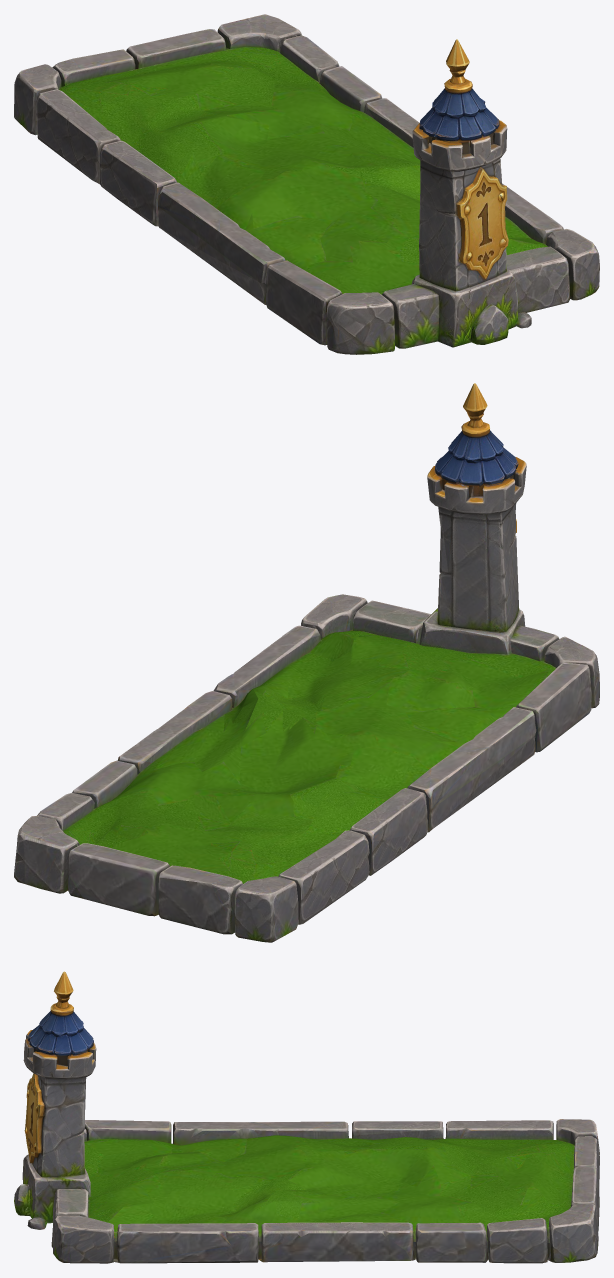
Rendered from golf-tee.glb.
3 views of the same model, one above another, from view 1: azimuth 30°, elevation 25°; view 2: azimuth 150°, elevation 25°; view 3: azimuth 270°, elevation 25° (orthographic). The views are drawn at different scales.
Visible parts, largest first — view 1: output_unwrapped; view 2: output_unwrapped; view 3: output_unwrapped.
Boxes of the visible parts, x1,y1,x2,y2 form: output_unwrapped: (14,14,599,354); output_unwrapped: (14,383,599,942); output_unwrapped: (14,971,599,1263).
Bounding box in the file's own units: 0.8453 × 0.8402 × 1.9.
1 material, 1 textured.
